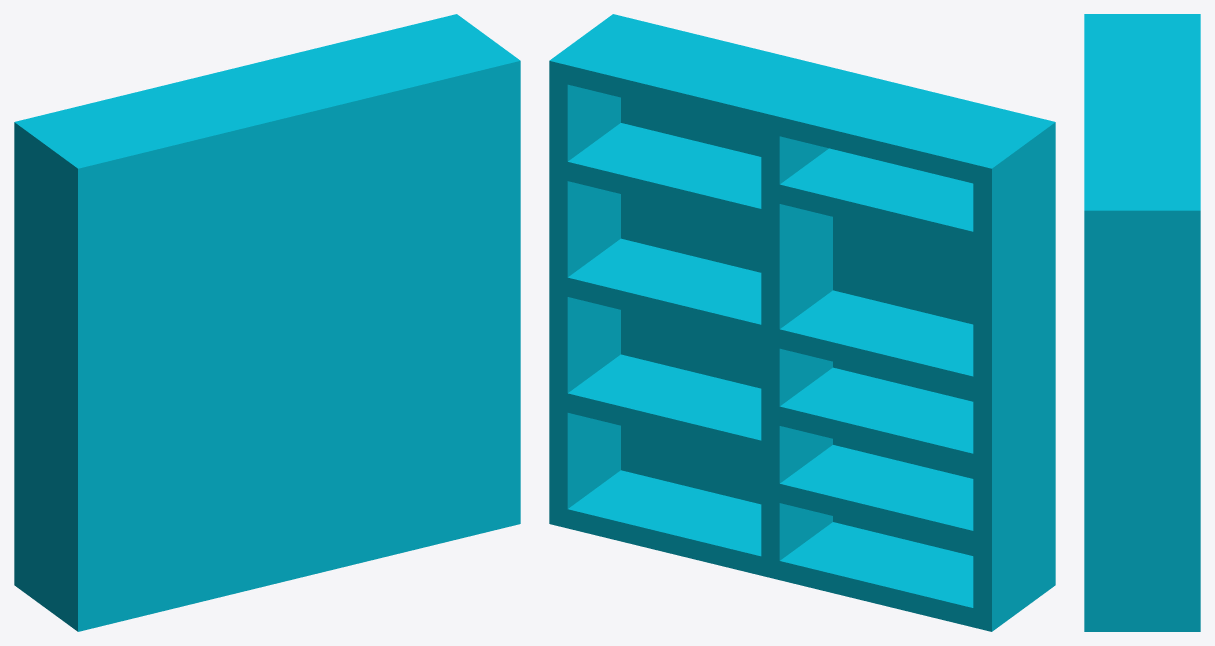
Rendered from Miscellaneous Bookshelf.glb.
3 views of the same model, side by side, from view 1: azimuth 30°, elevation 25°; view 2: azimuth 150°, elevation 25°; view 3: azimuth 270°, elevation 25° (orthographic). The views are drawn at different scales.
Visible parts, largest first — view 1: Bookshelf Backbone, Bookshelf Ceiling, Bookshelf Wall 2, Bookshelf Floor, Bookshelf Middle Shelf, Bookshelf Shelf 3, Bookshelf Shelf 4, Bookshelf Shelf 5, Bookshelf Shelf 2, Bookshelf Shelf 1, Bookshelf Wall 1; view 2: Bookshelf Backbone, Bookshelf Ceiling, Bookshelf Wall 2, Bookshelf Floor, Bookshelf Middle Shelf, Bookshelf Wall 1, Bookshelf Wall Middle, Bookshelf Shelf 4, Bookshelf Shelf 5, Bookshelf Shelf 2, Bookshelf Shelf 1, Bookshelf Shelf 3; view 3: Bookshelf Wall 1, Bookshelf Ceiling, Bookshelf Backbone, Bookshelf Floor, Bookshelf Wall 2, Bookshelf Shelf 1, Bookshelf Shelf 2, Bookshelf Wall Middle.
Part boxes in pixels (box(x1,y1,x2,y2)): Bookshelf Backbone: box(67, 53, 520, 631); Bookshelf Ceiling: box(14, 14, 520, 187); Bookshelf Wall 2: box(14, 117, 89, 627); Bookshelf Floor: box(15, 505, 520, 631); Bookshelf Middle Shelf: box(87, 307, 389, 397); Bookshelf Shelf 3: box(87, 181, 308, 253); Bookshelf Shelf 4: box(62, 404, 299, 477); Bookshelf Shelf 5: box(72, 488, 299, 554); Bookshelf Shelf 2: box(300, 389, 520, 450); Bookshelf Shelf 1: box(299, 177, 450, 230); Bookshelf Wall 1: box(438, 14, 514, 58); Bookshelf Backbone: box(605, 14, 1055, 588); Bookshelf Ceiling: box(549, 14, 1055, 187); Bookshelf Wall 2: box(973, 121, 1050, 631); Bookshelf Floor: box(549, 470, 1055, 631); Bookshelf Middle Shelf: box(558, 238, 982, 397); Bookshelf Wall 1: box(549, 18, 625, 528); Bookshelf Wall Middle: box(761, 70, 836, 579); Bookshelf Shelf 4: box(770, 367, 1055, 477); Bookshelf Shelf 5: box(770, 445, 1055, 554); Bookshelf Shelf 2: box(549, 354, 770, 461); Bookshelf Shelf 1: box(549, 123, 770, 230); Bookshelf Shelf 3: box(761, 148, 982, 252); Bookshelf Wall 1: box(1094, 202, 1200, 631); Bookshelf Ceiling: box(1084, 14, 1200, 227); Bookshelf Backbone: box(1084, 14, 1103, 631); Bookshelf Floor: box(1084, 614, 1200, 631); Bookshelf Wall 2: box(1094, 14, 1200, 22); Bookshelf Shelf 1: box(1084, 298, 1200, 315); Bookshelf Shelf 2: box(1084, 509, 1199, 526); Bookshelf Wall Middle: box(1101, 108, 1200, 116).
Size of the model in its own units: 152 by 152 by 38.1.
